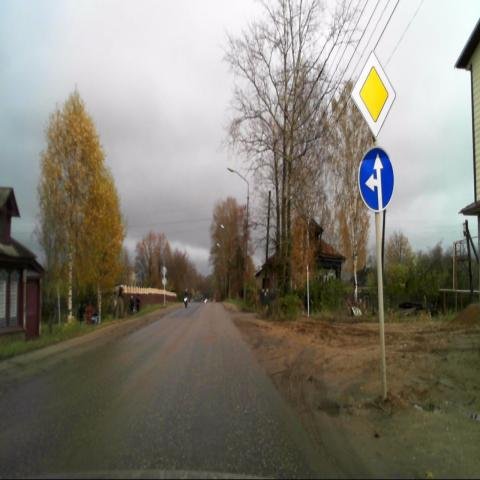4_1_5: (358, 147, 395, 211)
